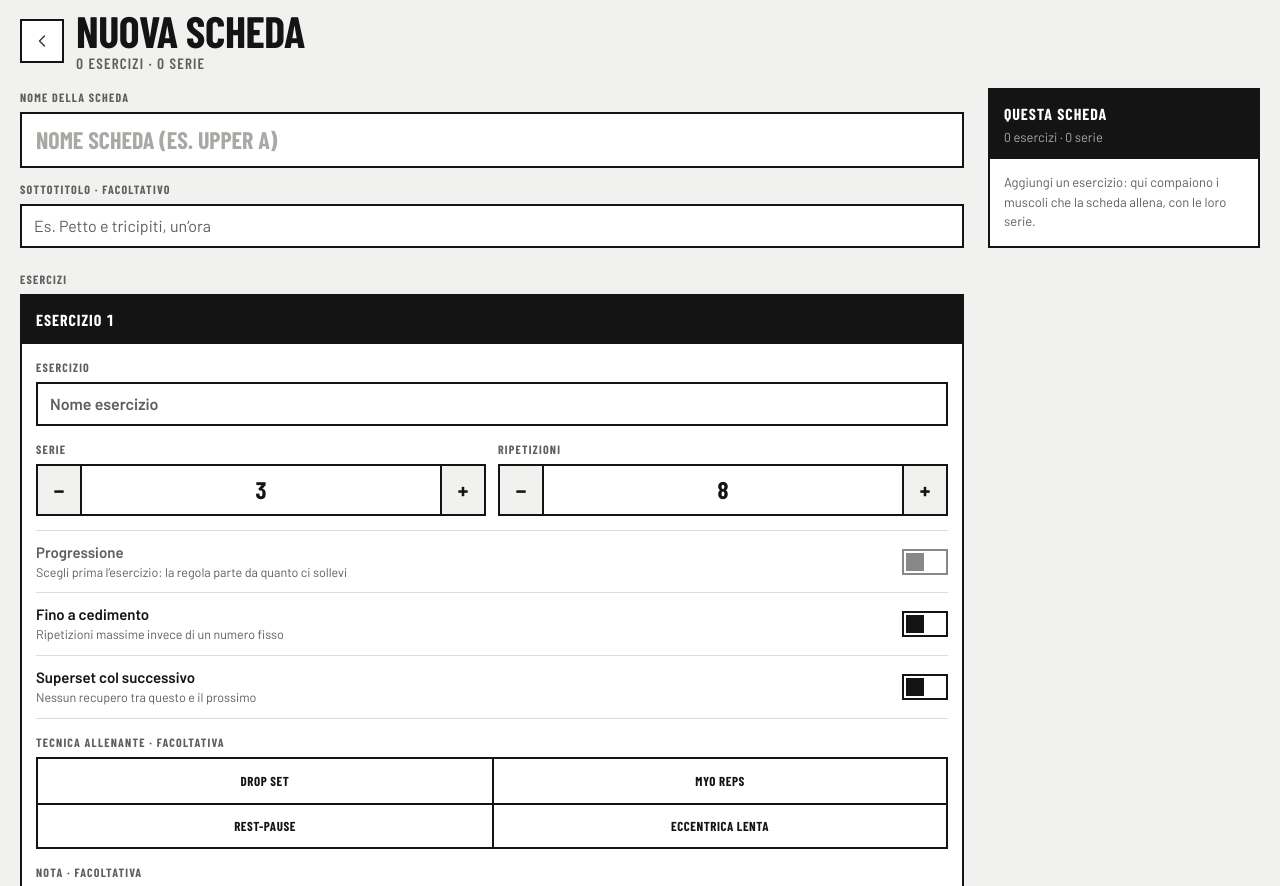
Test case: il form della scheda — esercizi compressi › da compressa una riga dice se le manca qualcosa
Type "Hip thrust" into the field labelled "Nome esercizio". click: (492, 404)
box: x1=36 y1=382 x2=948 y2=426
(page scrolled)
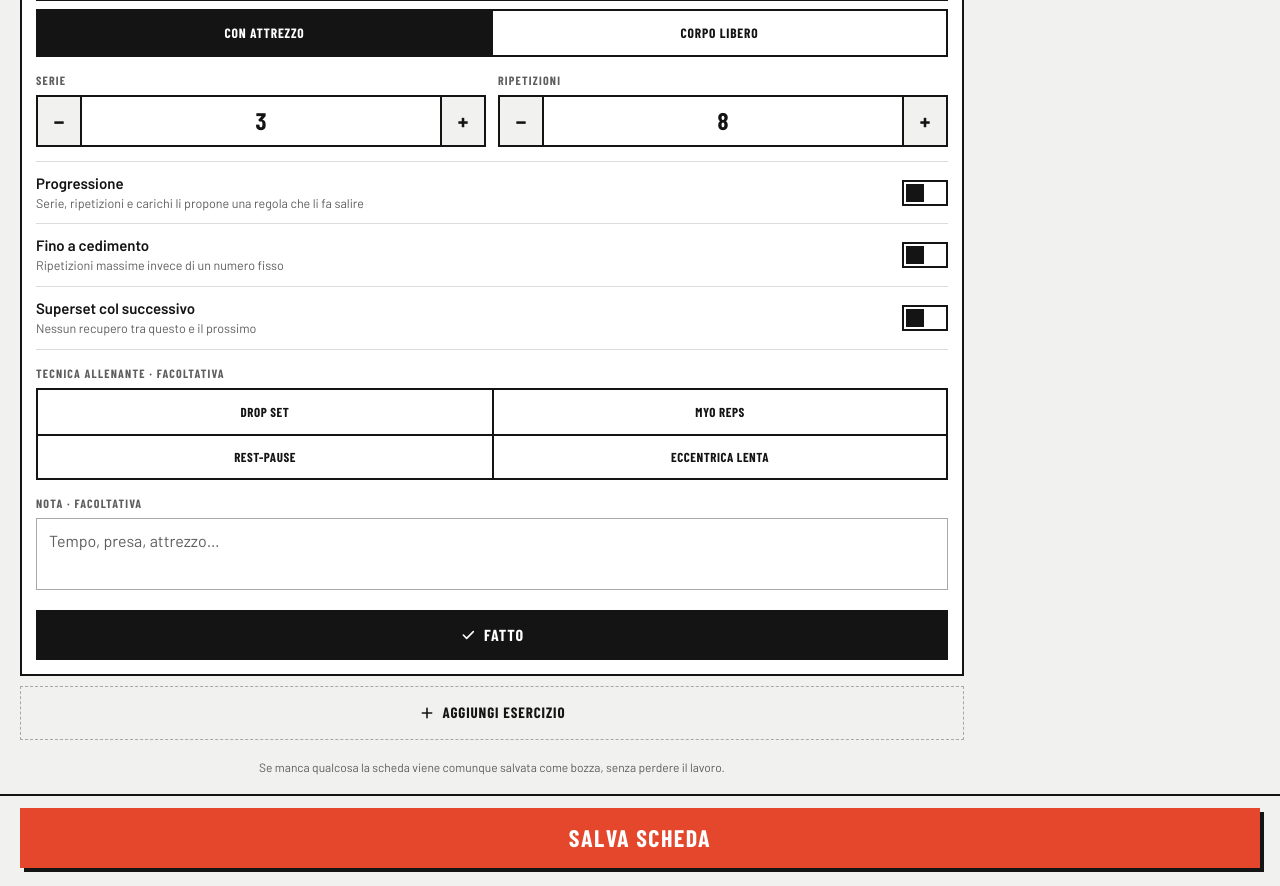
// Esercizio nuovo senza gruppo muscolare: non si può salvare così.
Click the button "Fatto". click: (492, 635)
box: x1=36 y1=610 x2=948 y2=660
(page scrolled)
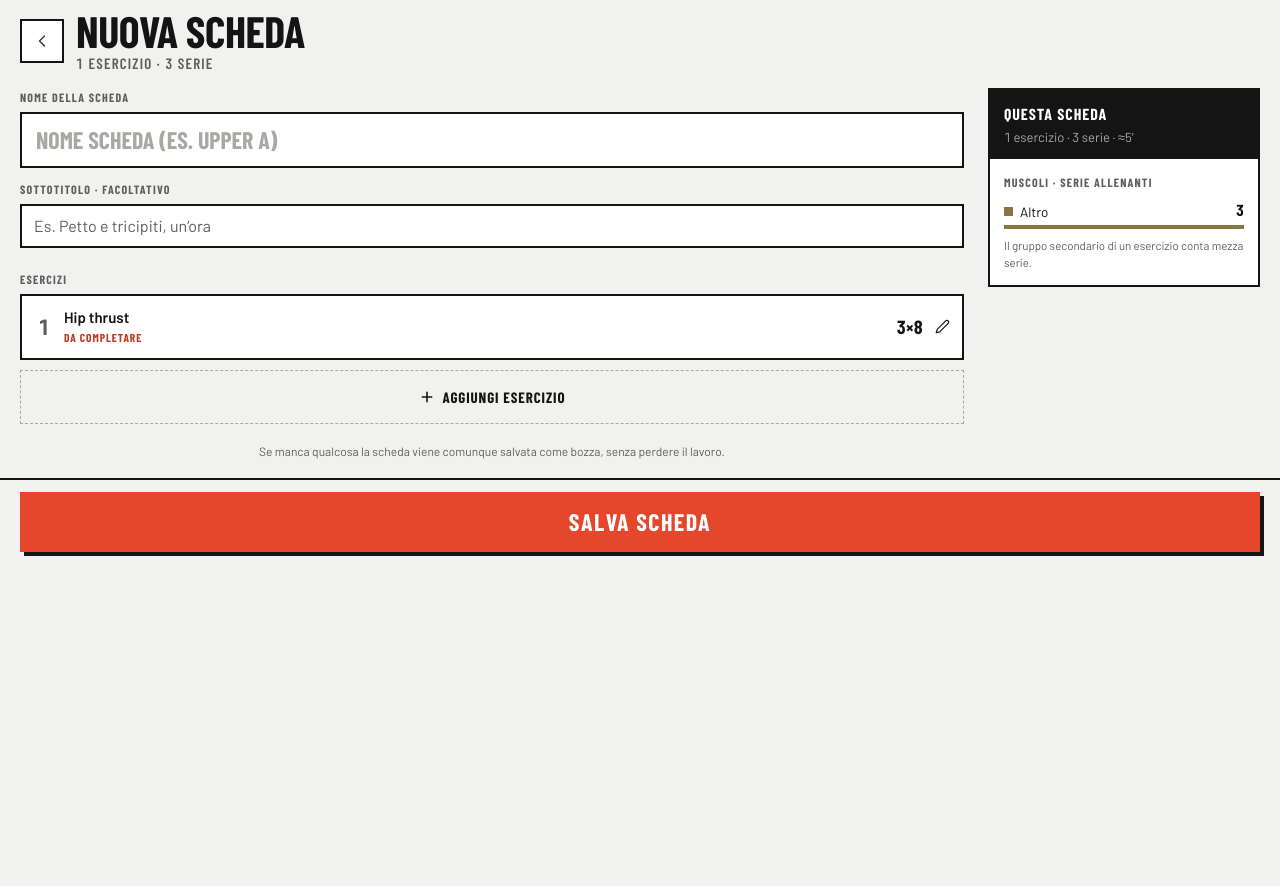
Expected: the button "1 Hip thrust da completare 3×8" is shown, x1=22 y1=296 x2=962 y2=358
